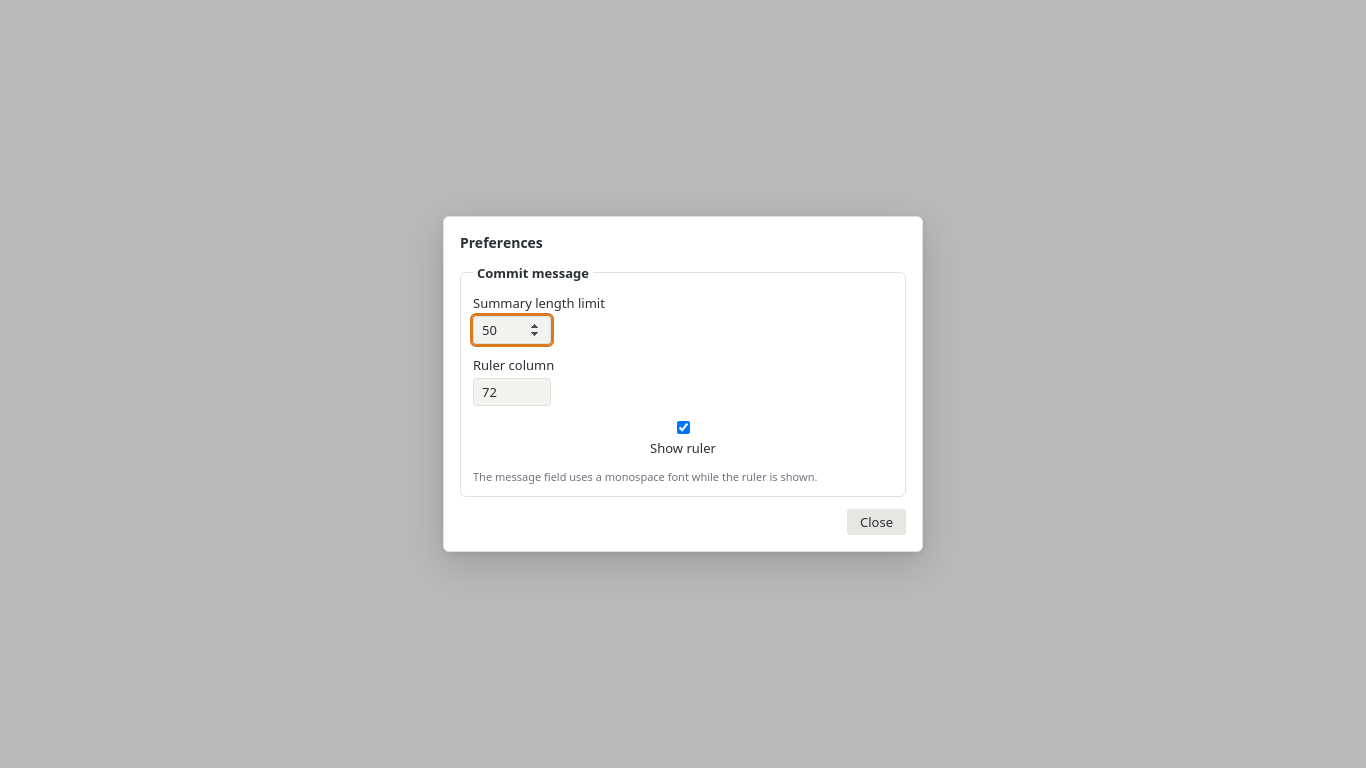
it: Commit message preferences › edits the commit message settings, clamping numbers on blur
The image size is (1366, 768).
Replace the text in the number field labelled "Summary length limit" with "60" at {"x": 512, "y": 330}, box 473,316 -> 551,344
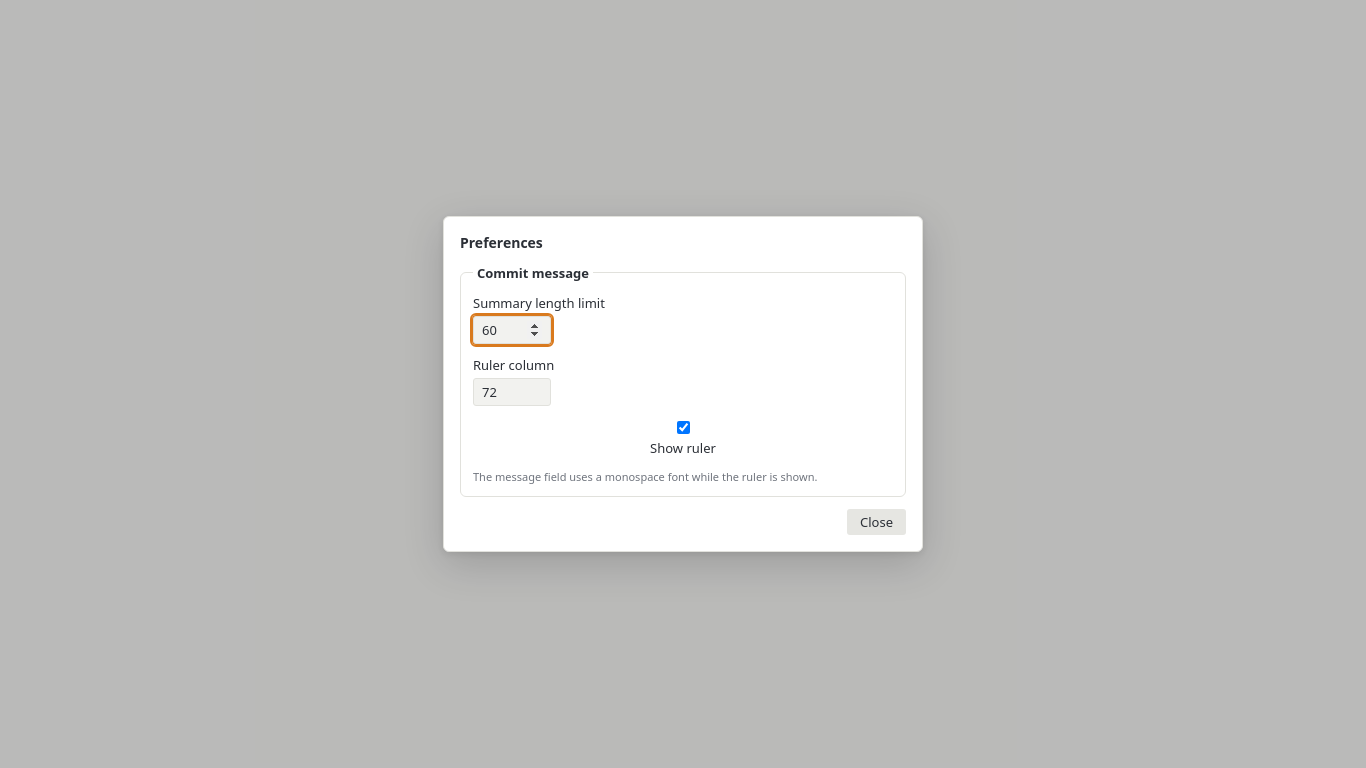
Click the checkbox labelled "Show ruler".
click(684, 427)  # box 677,421 -> 690,434
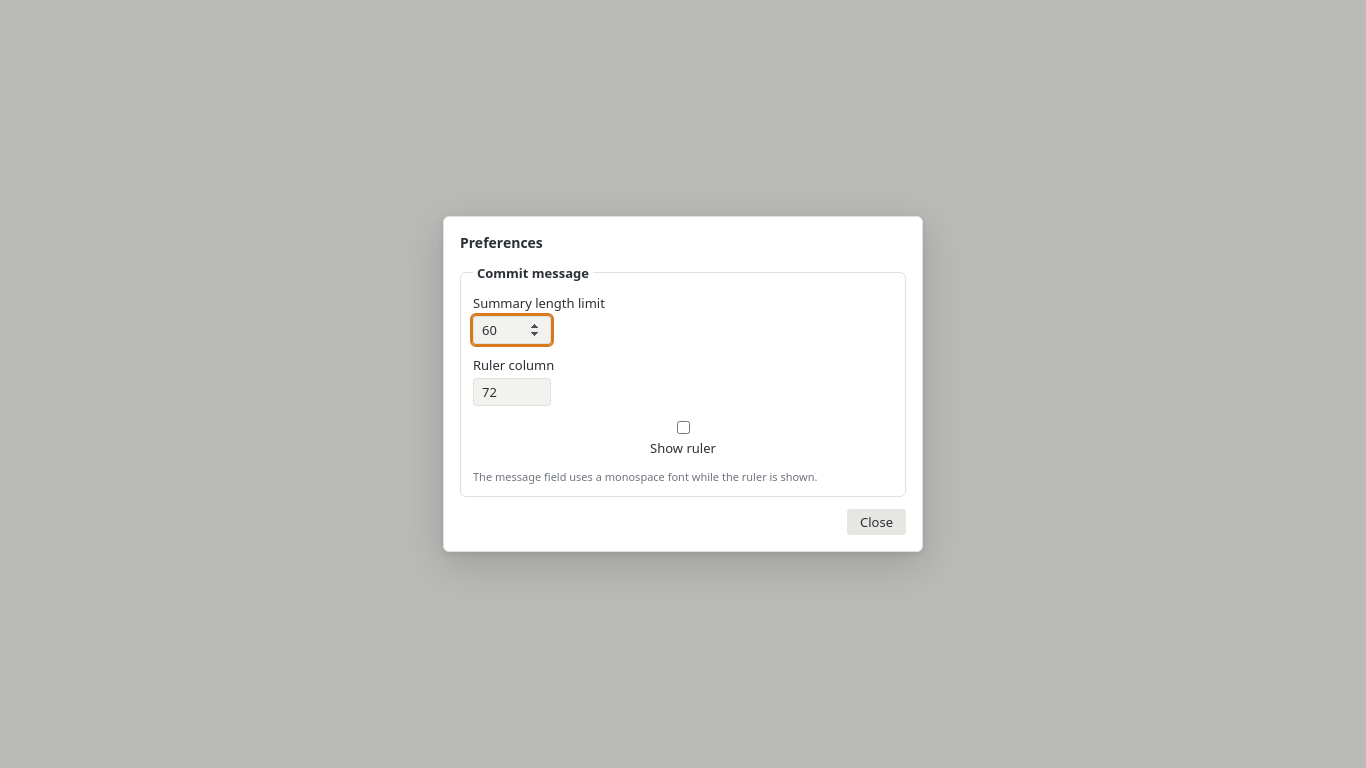
Replace the text in the number field labelled "Ruler column" with "500" at {"x": 512, "y": 392}, box 473,378 -> 551,406
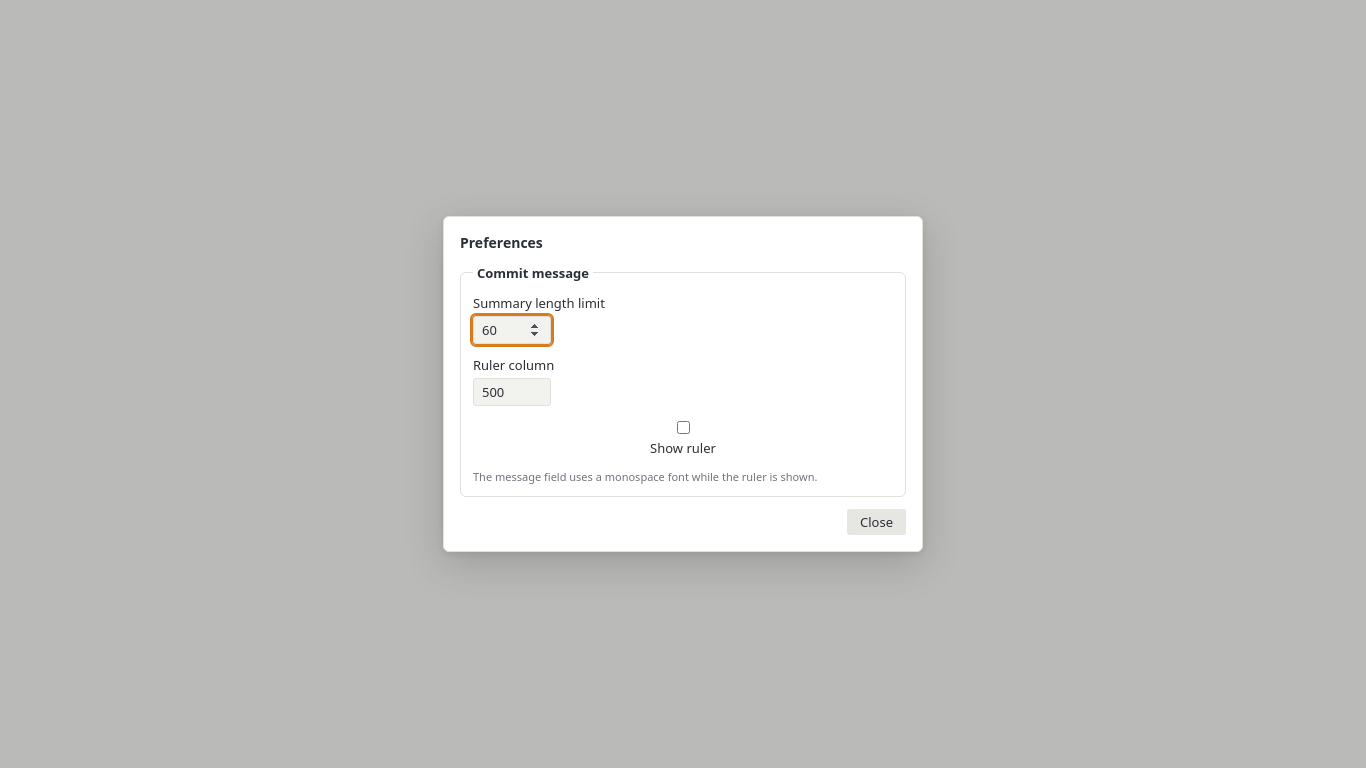
Leave the number field labelled "Ruler column", box 473,378 -> 551,406
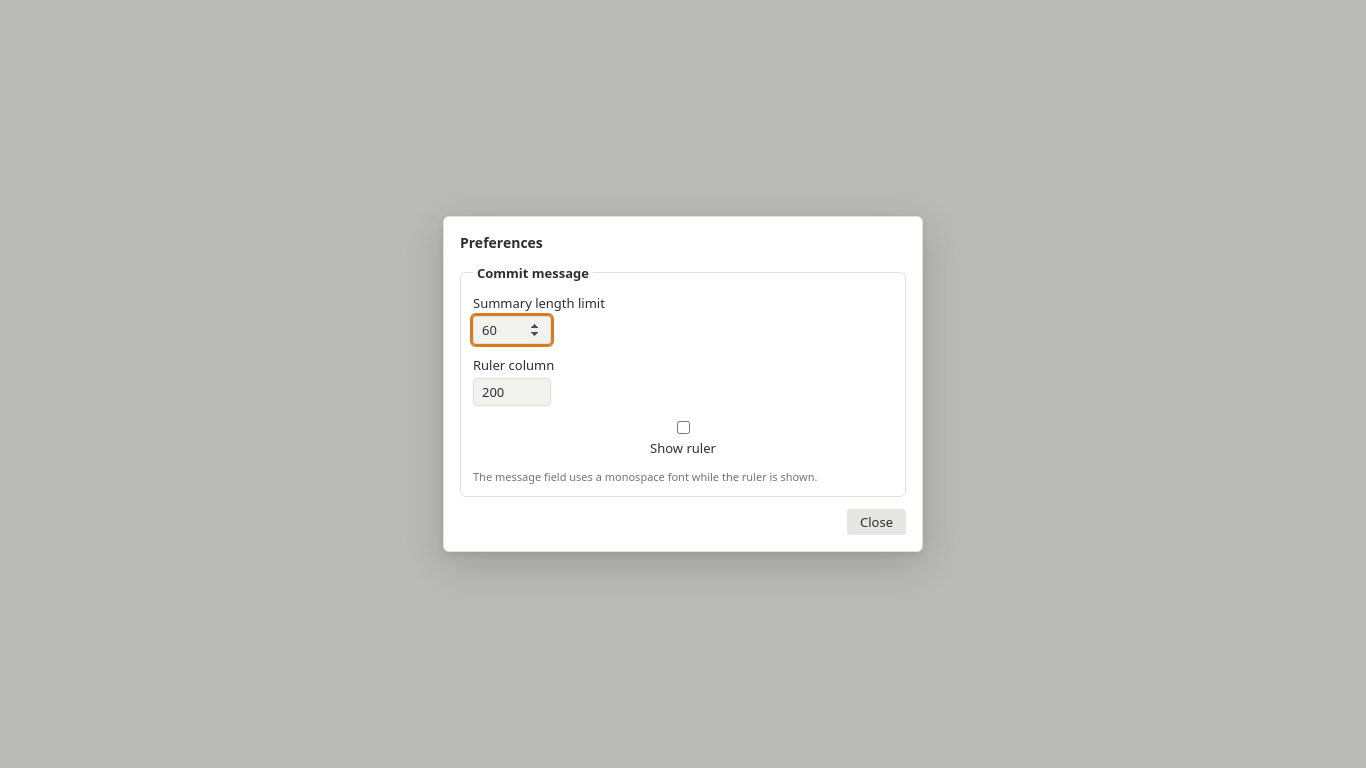
Result: the number field labelled "Ruler column" holds "200" at 473,378 -> 551,406
